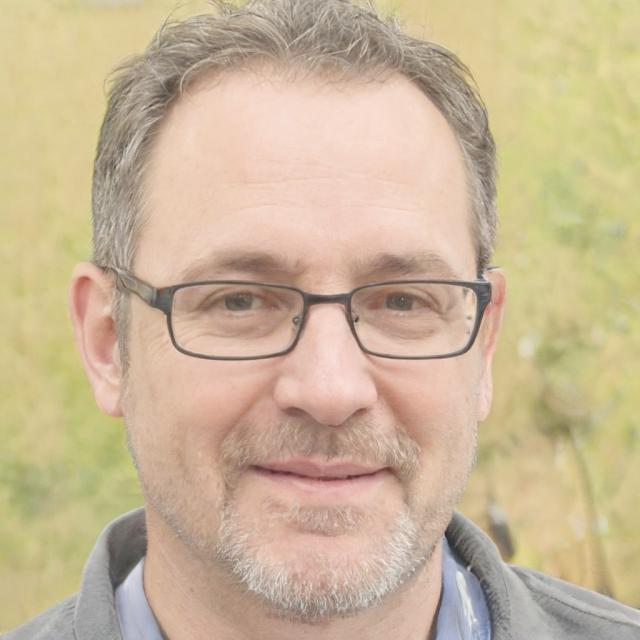lens: (172, 284, 305, 359), (351, 282, 482, 357)
